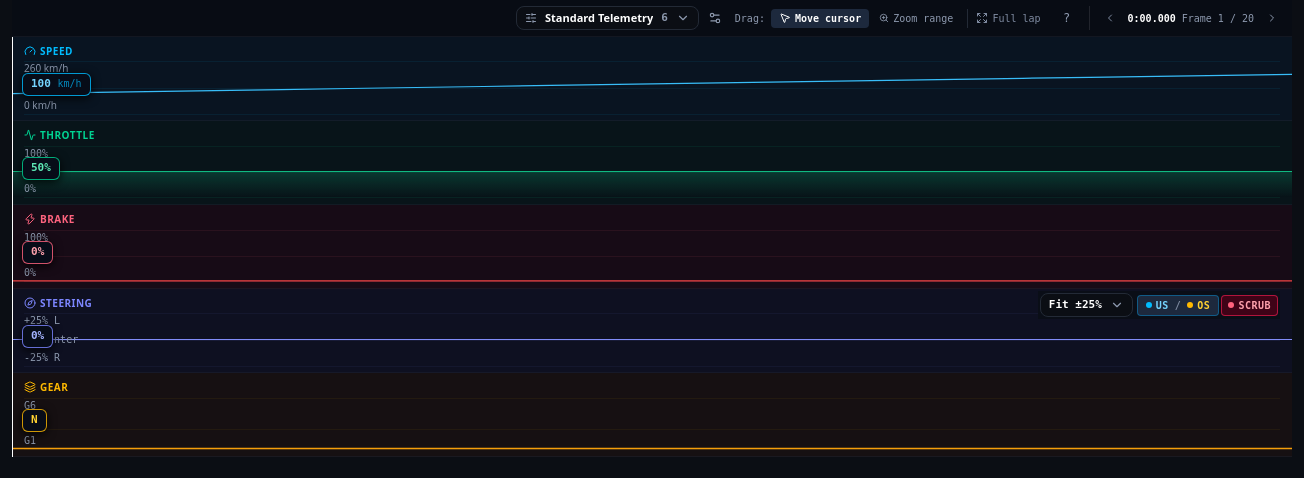
TelemetryStripCharts › allows selecting a range via drag in Zoom mode and zooming the charts
Click the button "Zoom range": (916, 18) [871,8,961,28]
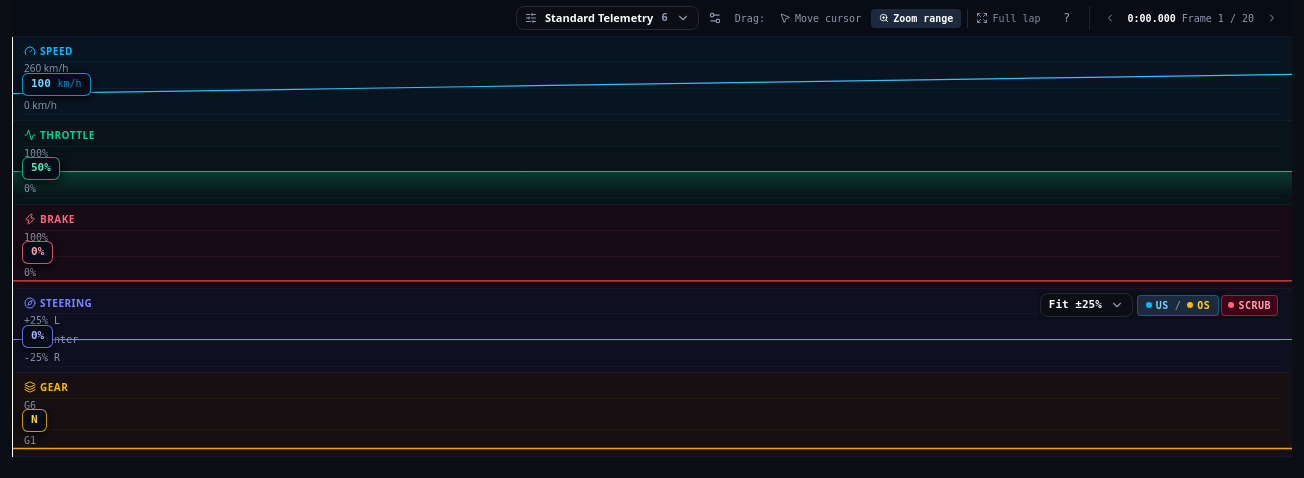
Press the mouse on the element named "Telemetry charts": (652, 228) [12,0,1292,457]
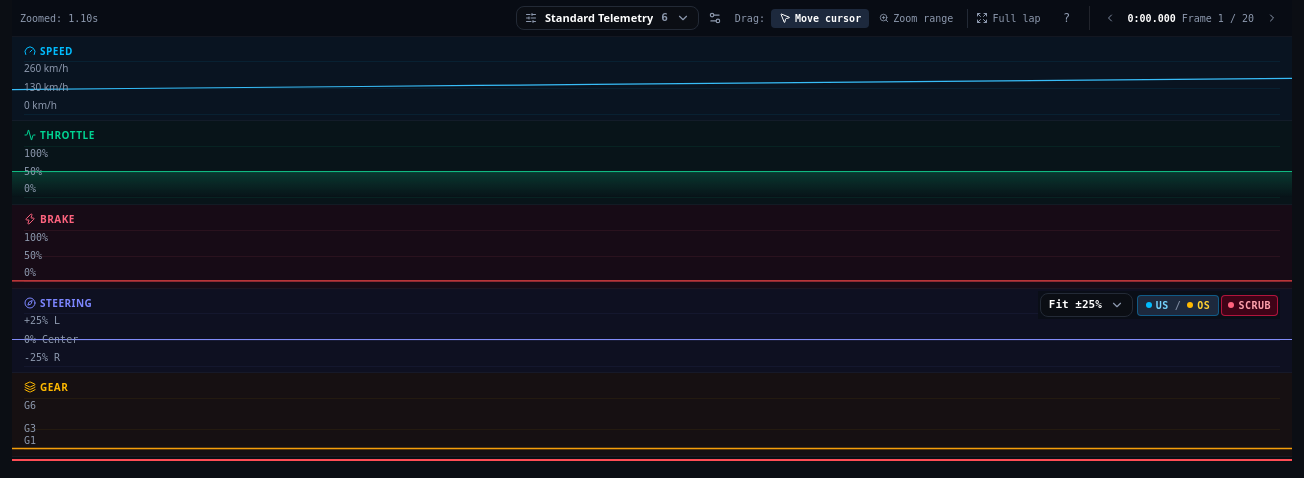
Expected: the text "Zoomed: 1.10s" is shown, [20,10,98,26]
Click the button "Full lap": (1006, 18) [967,8,1045,28]
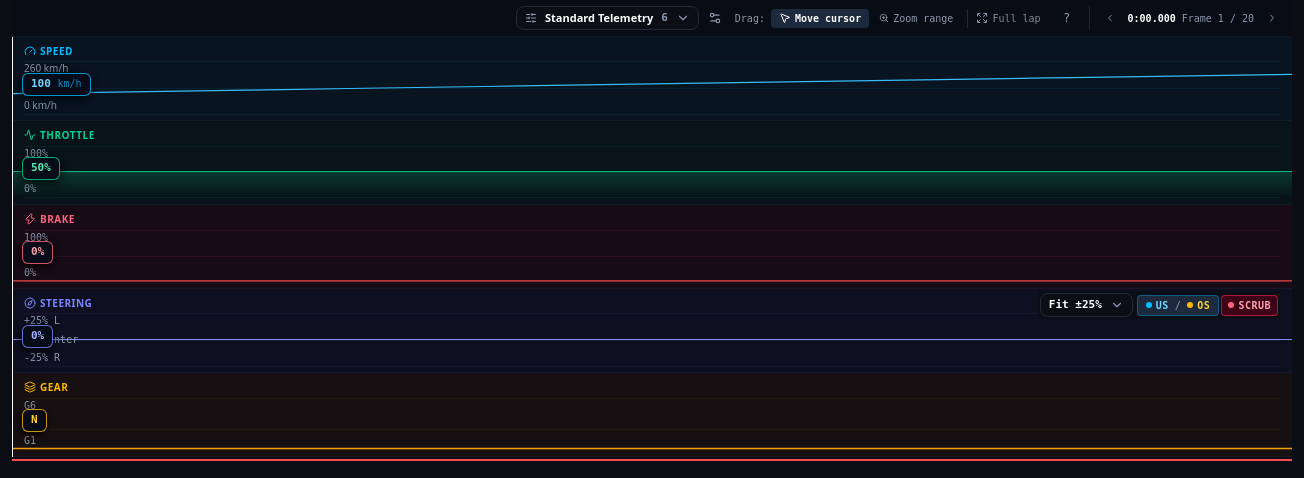
Expected: the text "Zoomed:" is gone
